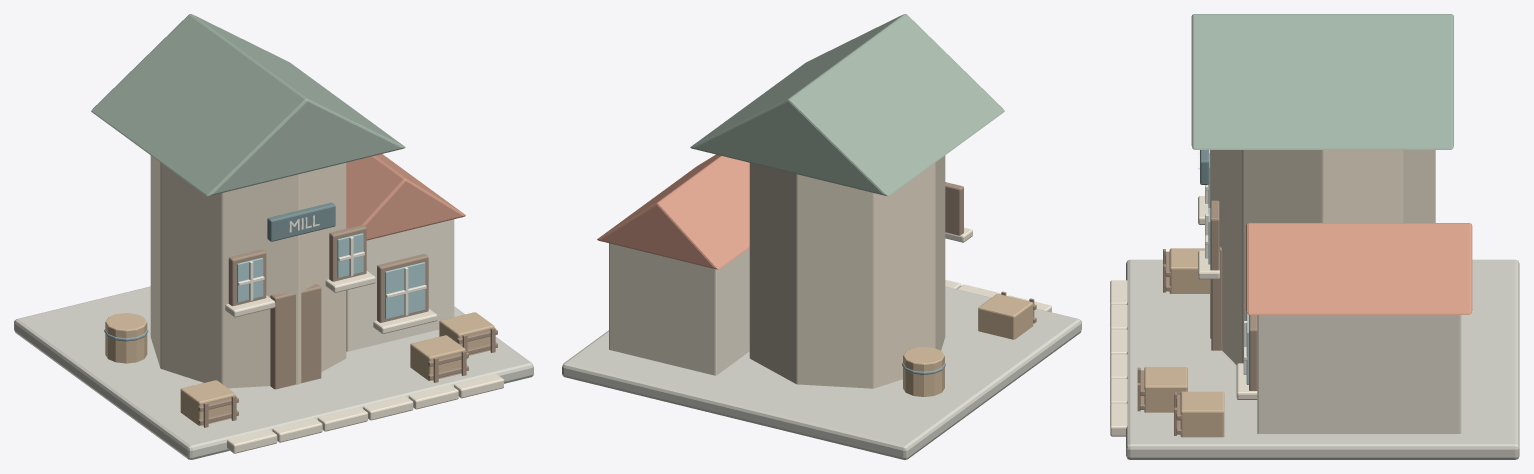
The model's file is mill.glb.
3 renders of one model, left to right at view 1: azimuth 30°, elevation 25°; view 2: azimuth 150°, elevation 25°; view 3: azimuth 270°, elevation 25°, orthographic. The views are drawn at different scales.
Parts seen in each view (by area): view 1: Octagonal stone mill, Slate mill cap, Stone foundation.002, Attached flour store, Flour store roof, Mill doorway, Barrel.001, Blue glazing.006, Mill front sign, Crate body.004, Crate body.003, Crate body.002 (+14 smaller); view 2: Octagonal stone mill, Slate mill cap, Stone foundation.002, Attached flour store, Flour store roof, Crate body.004, Barrel.001, Window deep frame.004; view 3: Slate mill cap, Stone foundation.002, Attached flour store, Flour store roof, Octagonal stone mill, Crate body.002, Crate body.003, Crate body.004, Mill doorway, Window deep frame.005, Window deep frame.006, Front paving.017 (+7 smaller).
Part boxes in pixels (box(x1,y1,x2,y2)): Octagonal stone mill: box(150, 155, 346, 388); Slate mill cap: box(91, 14, 405, 196); Stone foundation.002: box(14, 286, 533, 459); Attached flour store: box(346, 219, 454, 351); Flour store roof: box(346, 154, 465, 240); Mill doorway: box(270, 284, 321, 389); Barrel.001: box(105, 313, 147, 363); Blue glazing.006: box(385, 262, 425, 319); Mill front sign: box(267, 202, 335, 241); Crate body.004: box(180, 380, 235, 425); Crate body.003: box(410, 335, 465, 380); Crate body.002: box(439, 312, 494, 355); Octagonal stone mill: box(749, 155, 945, 388); Slate mill cap: box(690, 14, 1004, 196); Stone foundation.002: box(562, 286, 1081, 459); Attached flour store: box(609, 243, 749, 375); Flour store roof: box(597, 154, 749, 269); Crate body.004: box(978, 294, 1033, 339); Barrel.001: box(903, 346, 944, 396); Window deep frame.004: box(945, 182, 963, 235); Slate mill cap: box(1191, 14, 1453, 149); Stone foundation.002: box(1126, 259, 1519, 459); Attached flour store: box(1257, 315, 1461, 433); Flour store roof: box(1246, 223, 1472, 314); Octagonal stone mill: box(1210, 150, 1435, 364); Crate body.002: box(1180, 391, 1224, 437); Crate body.003: box(1144, 367, 1187, 412); Crate body.004: box(1169, 248, 1209, 293); Mill doorway: box(1211, 246, 1222, 350); Window deep frame.005: box(1210, 200, 1219, 270); Window deep frame.006: box(1249, 315, 1257, 390); Front paving.017: box(1110, 403, 1127, 436).
Bounding box in the file's own units: 6.1 × 5.14 × 5.62.
